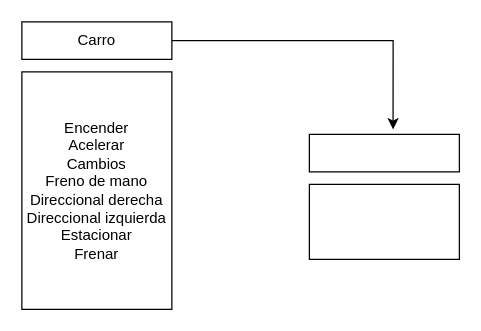
Some shapes in this 481 by 331 pixel diagram are drawn without their labels. Here are the shapes that lost their labels. From the top down, the centre of each, then its label:
At [383,152]: "Destino".
At [383,221]: "N Distancia recorrida Distancia total".
